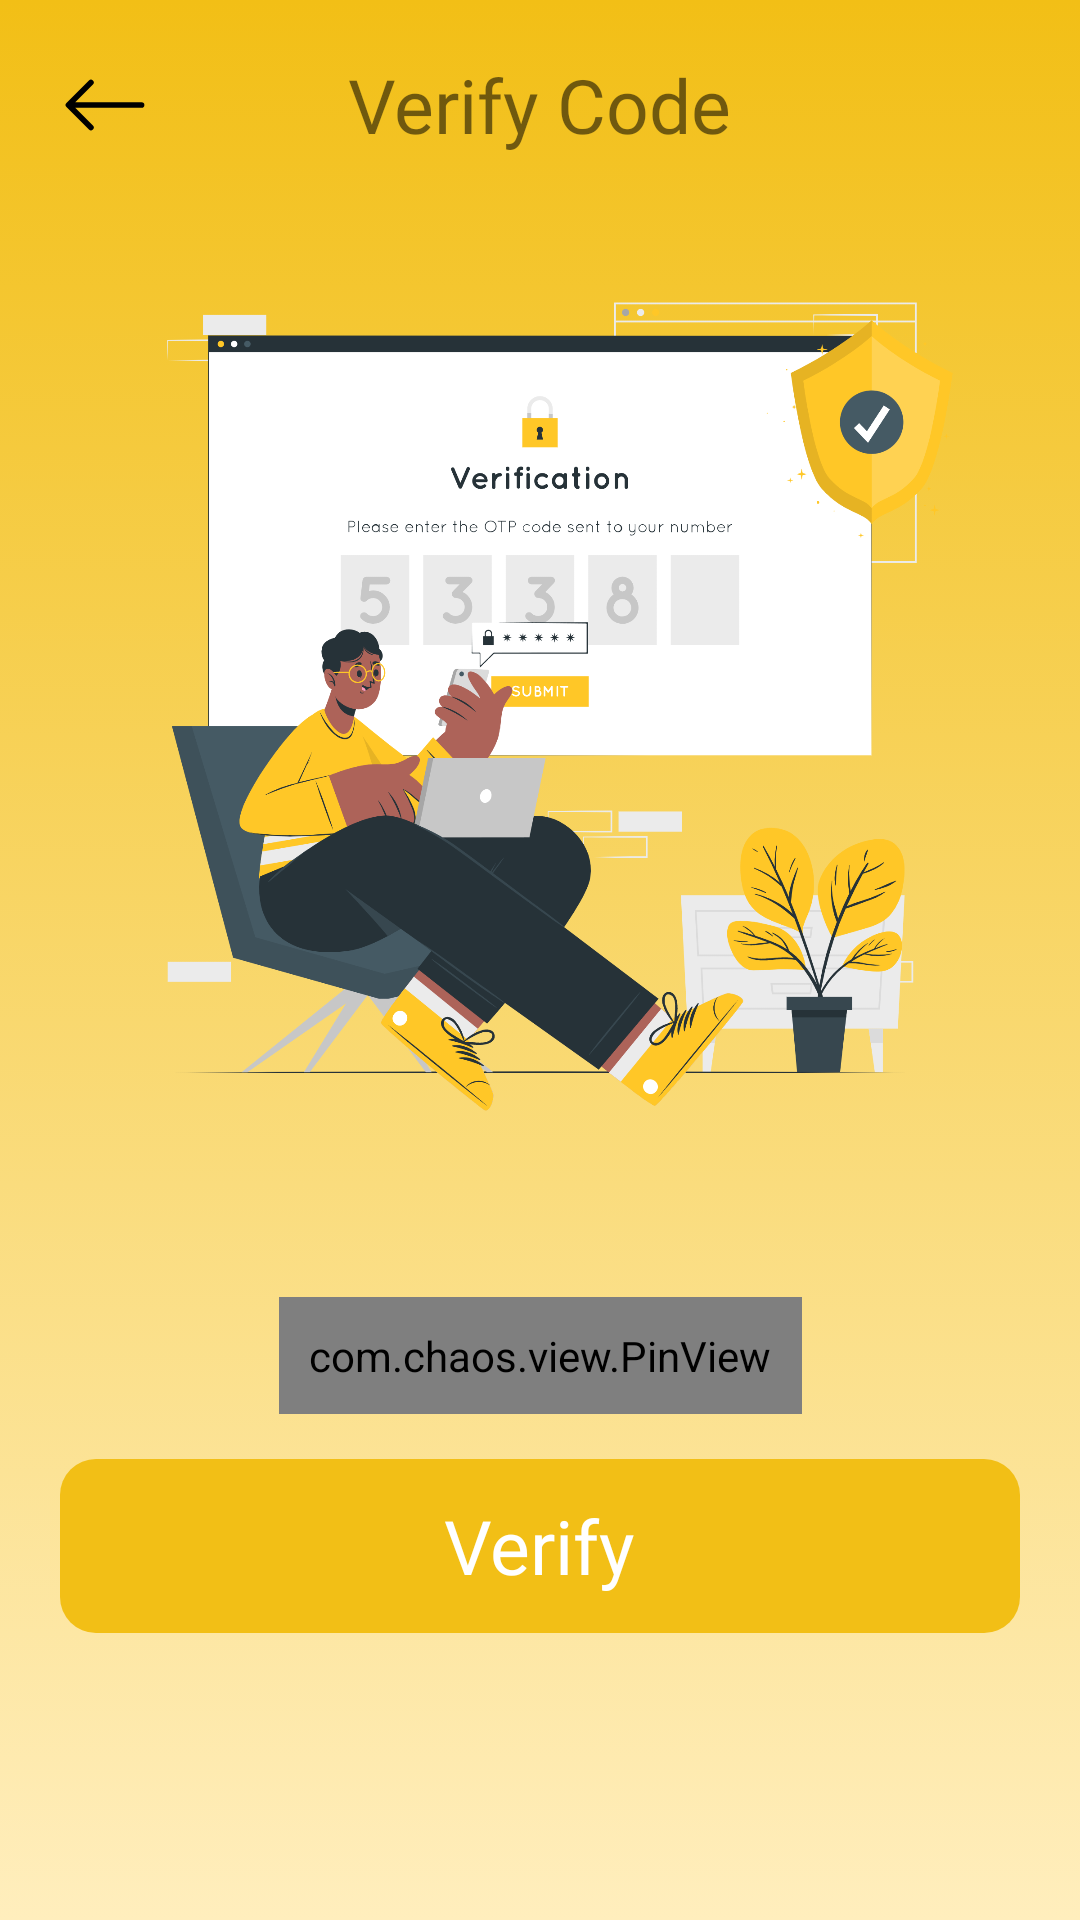

Where icons sit on this 1080x1920 app screen, as (x1, y1, x2, y2):
arrow left: (65, 79, 145, 131)
